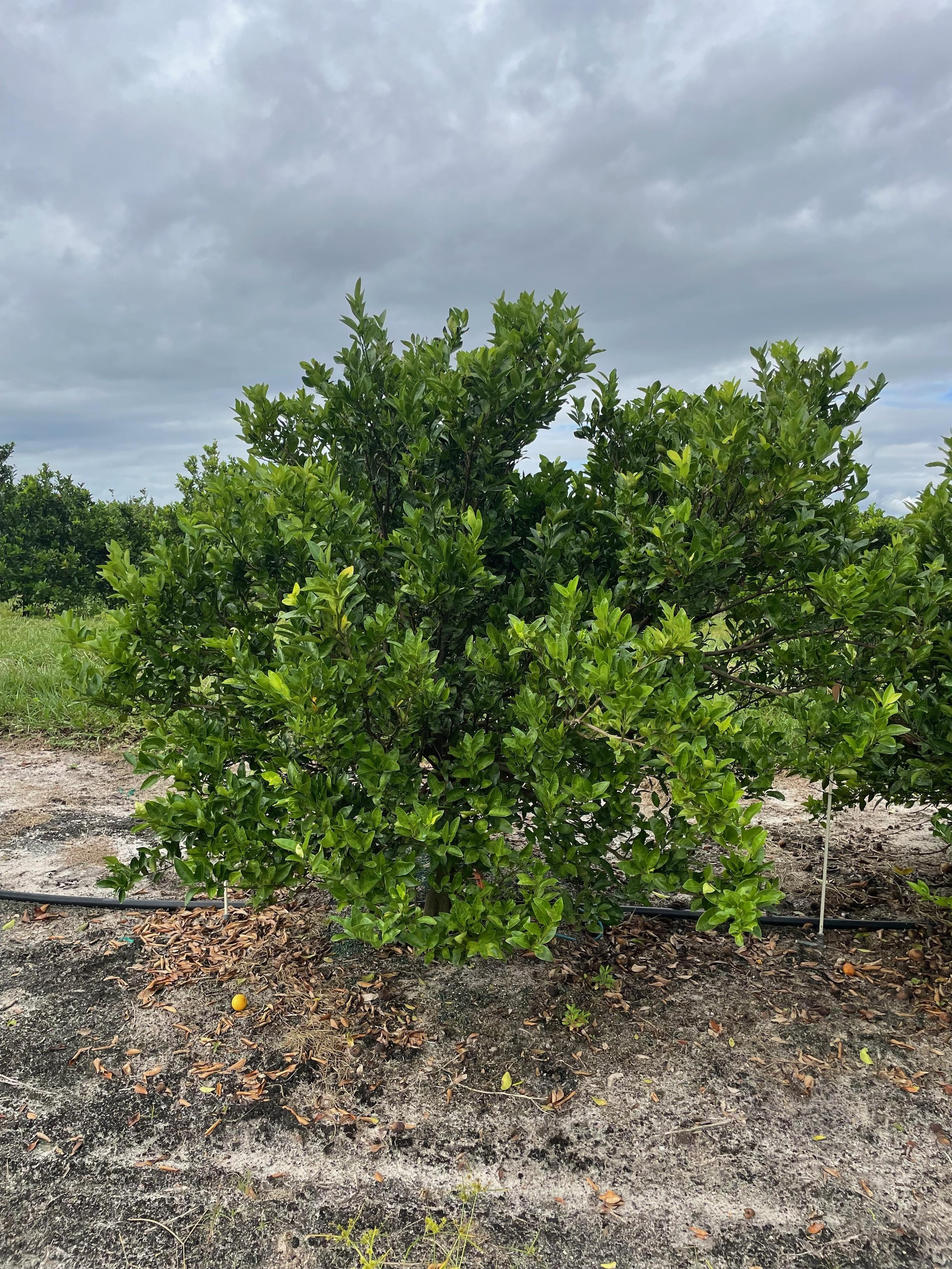fruit_on_ground: (303, 695, 325, 716)
fruit_on_tree: (228, 991, 249, 1013), (839, 961, 858, 978), (907, 946, 925, 963)
